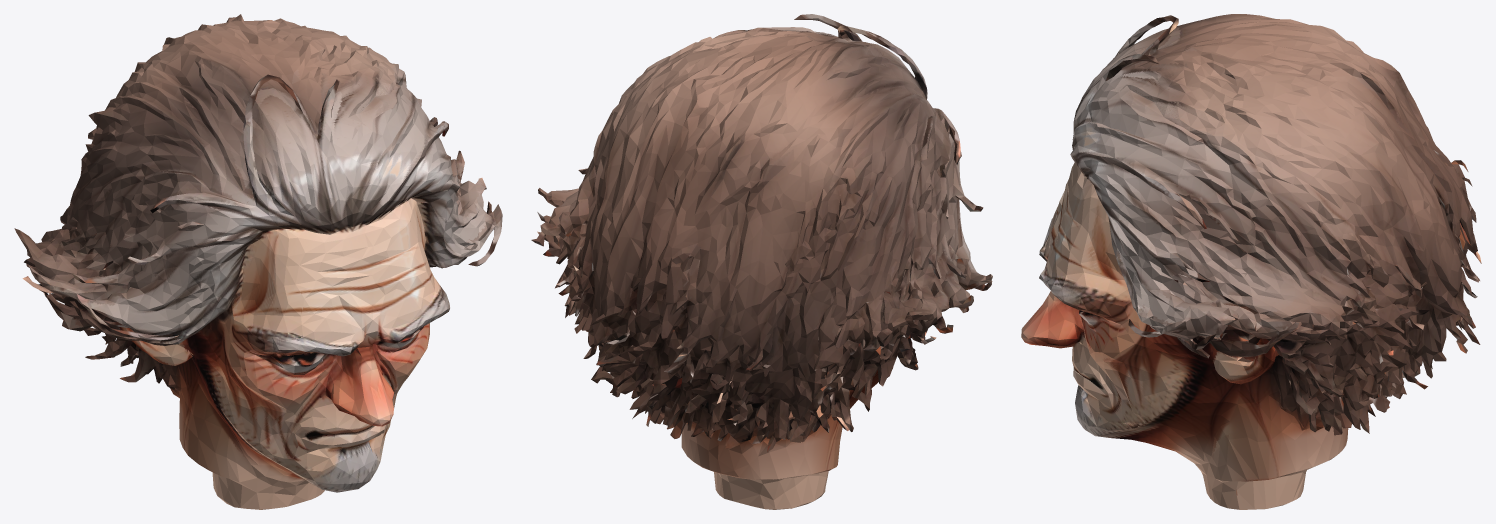
File: side_veteran_repaired_atlas.glb
The picture shows the model from 3 angles, left to right: view 1: azimuth 30°, elevation 25°; view 2: azimuth 150°, elevation 25°; view 3: azimuth 270°, elevation 25°; orthographic projection.
Visible parts, largest first — view 1: temp_mesh.ply; view 2: temp_mesh.ply; view 3: temp_mesh.ply.
Boxes of the visible parts, box(x1,y1,x2,y2) form: temp_mesh.ply: box(14, 14, 502, 509); temp_mesh.ply: box(531, 14, 992, 509); temp_mesh.ply: box(1021, 14, 1481, 509).
Size of the model in its own units: 1.44 by 1.43 by 1.33.
1 material, 1 textured.
